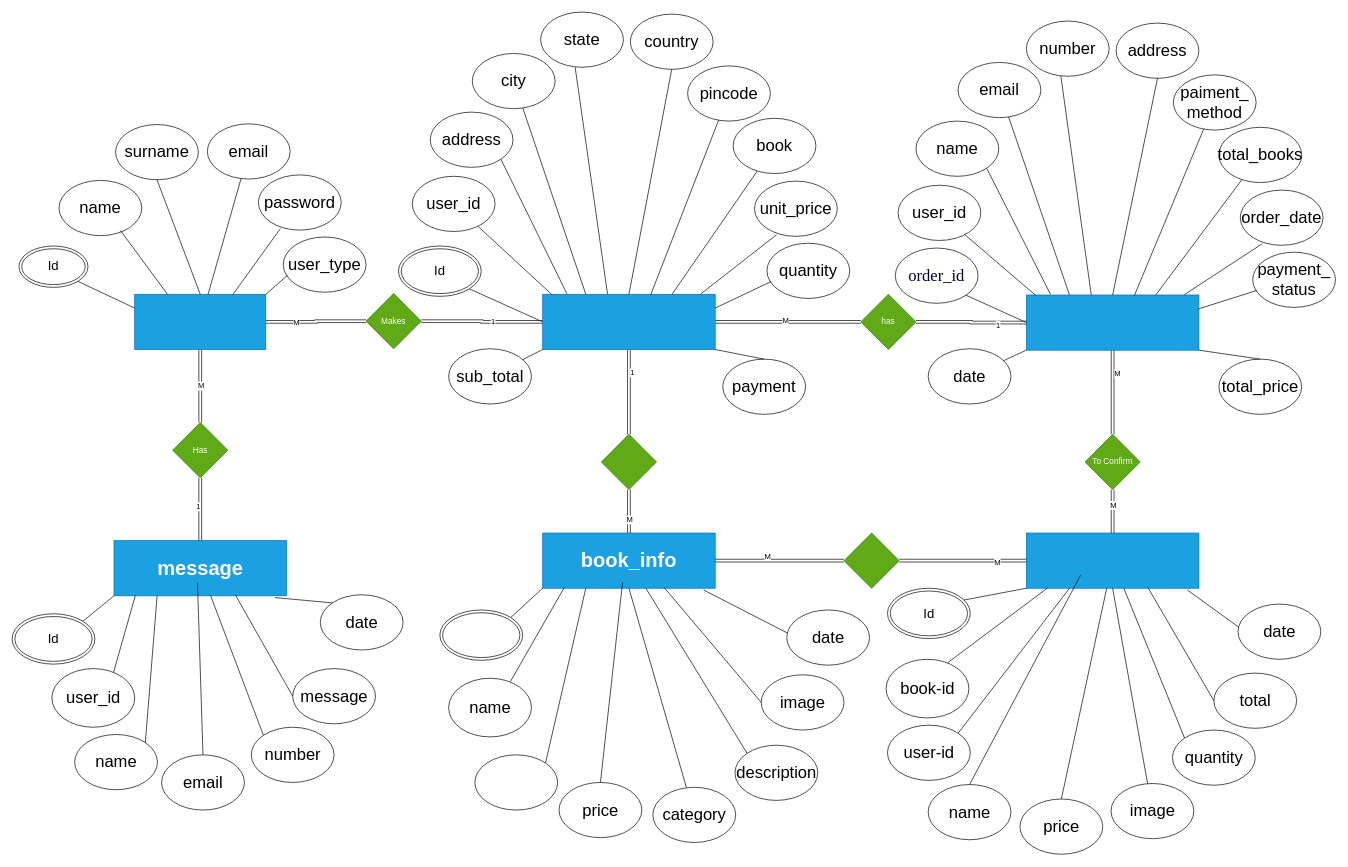
Some shapes in this 1348 by 867 pixel diagram are drawn without their labels. The shapes that lost their labels are listed below. From the top down, each one's centre as x and y in pixels, then its label:
the point at 200,321: user_info
the point at 628,321: Orders
the point at 1112,322: confirm_orders
the point at 629,462: Contains
the point at 871,560: Added to
the point at 1112,560: cart
the point at 481,634: bid
the point at 516,782: title
